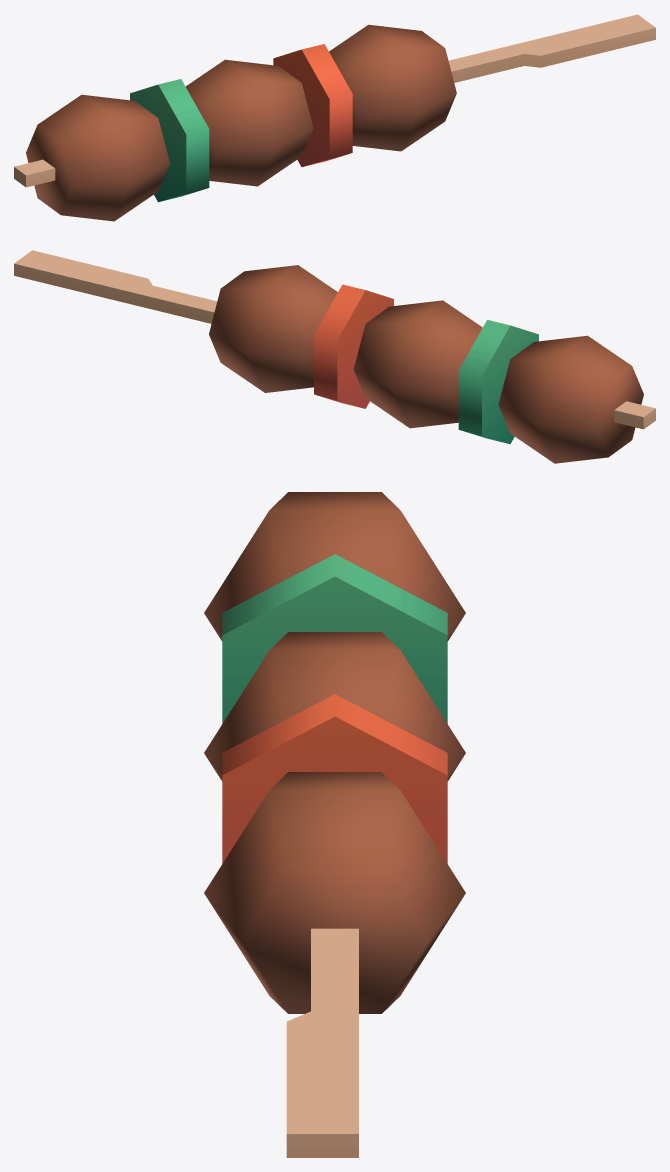
The model's file is grillspett.glb.
The picture shows the model from 3 angles, top to bottom: view 1: azimuth 30°, elevation 25°; view 2: azimuth 150°, elevation 25°; view 3: azimuth 270°, elevation 25°; orthographic projection. The views are drawn at different scales.
Visible parts, largest first — view 1: meat (×3), vegetables (×2), skewer-vegetables; view 2: meat (×3), vegetables (×2), skewer-vegetables; view 3: meat (×3), vegetables (×2), skewer-vegetables.
Boxes of the visible parts, <box> form: meat (×3): <box>26,24,456,221</box>; vegetables (×2): <box>130,44,352,202</box>; skewer-vegetables: <box>14,14,655,187</box>; meat (×3): <box>209,265,643,463</box>; vegetables (×2): <box>314,284,538,444</box>; skewer-vegetables: <box>14,250,655,429</box>; meat (×3): <box>204,492,465,1013</box>; vegetables (×2): <box>222,554,447,863</box>; skewer-vegetables: <box>286,928,358,1157</box>.
Size of the model in its own units: 0.5967 by 0.1077 by 0.1085.
Materials: 1 (1 with a texture image).
